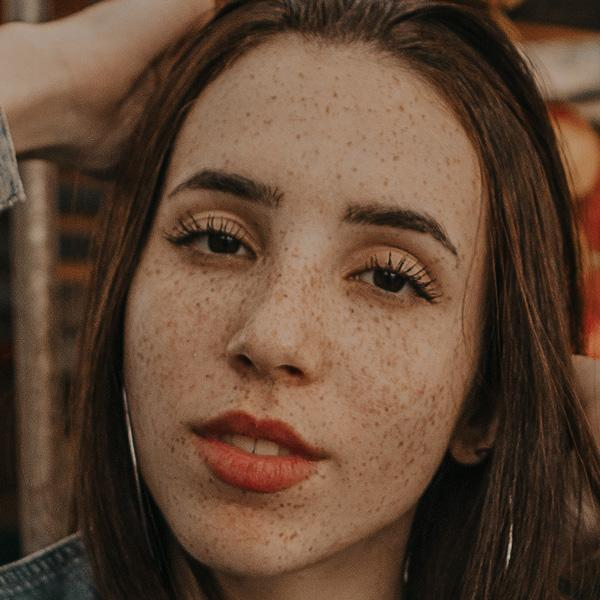Eyes: (339, 236, 439, 312), (168, 209, 263, 271)
